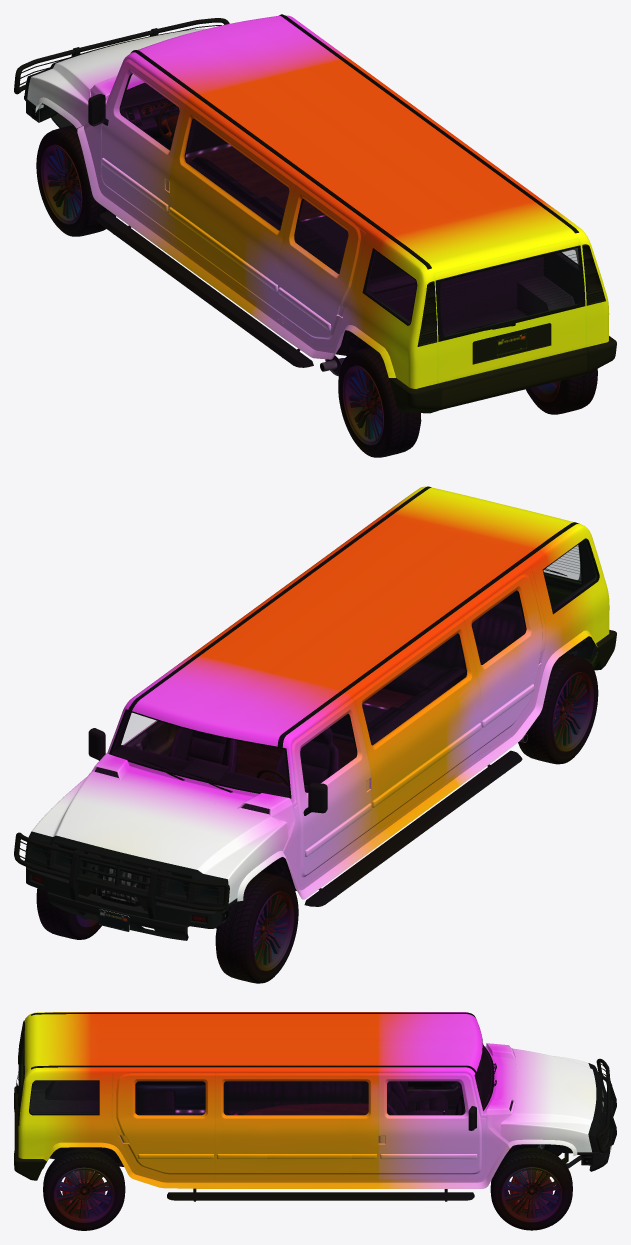
Rendered from patriot2.glb.
3 views of the same model, one above another, from view 1: azimuth 30°, elevation 25°; view 2: azimuth 150°, elevation 25°; view 3: azimuth 270°, elevation 25° (orthographic). The views are drawn at different scales.
Parts seen in each view (by area): view 1: bodyshell, chassis, boot, door_dside_f, windscreen_r, door_dside_r, misc_i, bumper_r, wheel_lr, wheel_lf, window_lm, misc_c (+4 smaller); view 2: bodyshell, misc_i, chassis, door_dside_f, door_dside_r, wheel_lf, wheel_lr, window_lm, misc_c, bumper_f, window_lf, window_lr (+4 smaller); view 3: bodyshell, chassis, misc_i, door_pside_f, door_pside_r, wheel_rr, wheel_rf, window_rm, misc_c, window_rf, window_rr, misc_b (+4 smaller).
Part boxes in pixels (left/top/right/bottom): bodyshell: left=77, top=14, right=609, bottom=388; chassis: left=31, top=82, right=580, bottom=355; boot: left=434, top=238, right=585, bottom=382; door_dside_f: left=88, top=59, right=187, bottom=239; windscreen_r: left=436, top=247, right=583, bottom=339; door_dside_r: left=278, top=182, right=366, bottom=346; misc_i: left=14, top=18, right=229, bottom=128; bumper_r: left=389, top=336, right=616, bottom=413; wheel_lr: left=338, top=347, right=421, bottom=457; wheel_lf: left=36, top=125, right=115, bottom=236; window_lm: left=184, top=118, right=288, bottom=230; misc_c: left=96, top=211, right=344, bottom=376; bodyshell: left=91, top=486, right=609, bottom=899; misc_i: left=14, top=773, right=288, bottom=919; chassis: left=47, top=539, right=598, bottom=940; door_dside_f: left=291, top=698, right=371, bottom=885; door_dside_r: left=462, top=568, right=545, bottom=755; wheel_lf: left=215, top=871, right=298, bottom=983; wheel_lr: left=518, top=653, right=598, bottom=764; window_lm: left=362, top=633, right=467, bottom=745; misc_c: left=304, top=734, right=527, bottom=906; bumper_f: left=26, top=867, right=221, bottom=928; window_lf: left=301, top=715, right=356, bottom=791; window_lr: left=472, top=591, right=525, bottom=664; bodyshell: left=18, top=1012, right=517, bottom=1188; chassis: left=23, top=1043, right=611, bottom=1171; misc_i: left=500, top=1048, right=616, bottom=1156; door_pside_f: left=378, top=1073, right=486, bottom=1179; door_pside_r: left=112, top=1073, right=215, bottom=1179; wheel_rr: left=43, top=1148, right=125, bottom=1230; wheel_rf: left=490, top=1147, right=572, bottom=1230; window_rm: left=224, top=1082, right=367, bottom=1114; misc_c: left=167, top=1188, right=474, bottom=1201; window_rf: left=387, top=1082, right=464, bottom=1114; window_rr: left=136, top=1082, right=204, bottom=1114; misc_b: left=30, top=1081, right=97, bottom=1112.
Bounding box in the file's own units: 2.39 × 2.02 × 7.07.
Materials: 20 (20 with a texture image).
